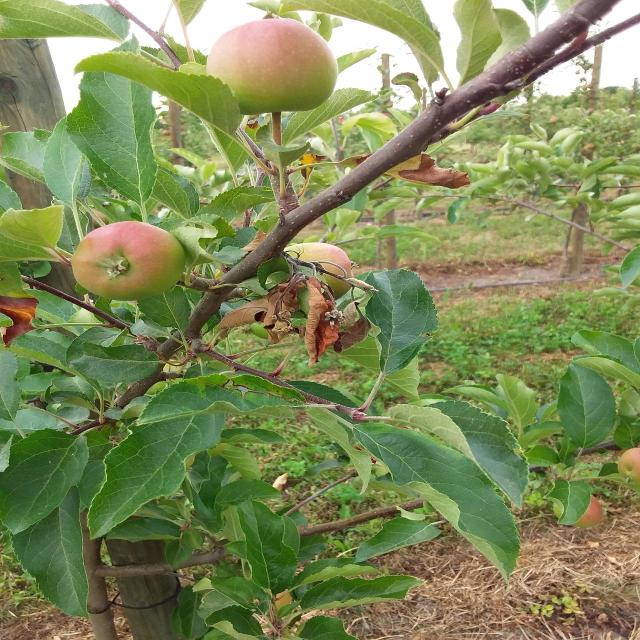-FireBlight-: (227, 276, 341, 350), (398, 144, 466, 189)
